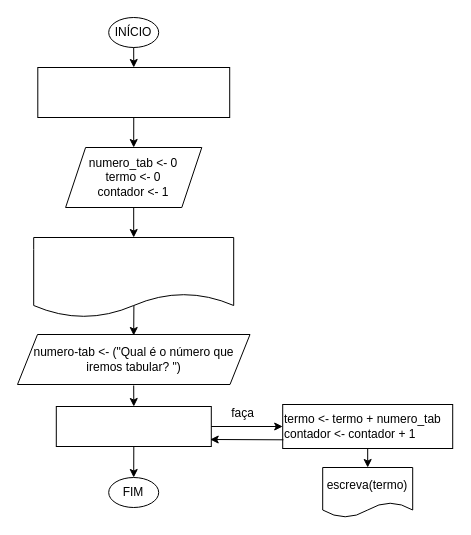
This 471x535 diagram has some shape labels left out. The shapes that lost their labels are listed below. From the top down, each one's box as (x1, y1, x2, y2) in pixels, then its label:
(37, 66, 230, 118): inteiro termo, numero_tab, contador
(33, 236, 234, 318): escreva("Olá humano, vamos calcula!") escreva("Eu sou bom em tabuadas")
(55, 406, 211, 446): enquanto (contador <= 10)
